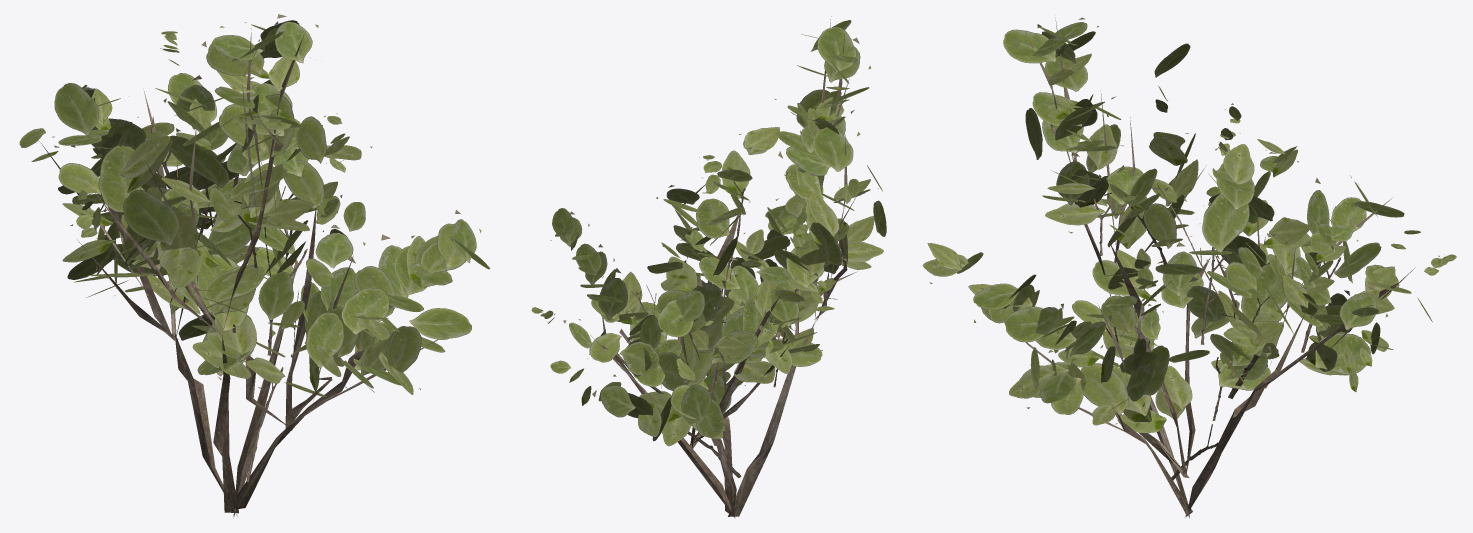
Rendered from bush_green_e.glb.
The picture shows the model from 3 angles, left to right: view 1: azimuth 30°, elevation 25°; view 2: azimuth 150°, elevation 25°; view 3: azimuth 270°, elevation 25°; orthographic projection. The views are drawn at different scales.
Parts seen in each view (by area): view 1: bush_green_e; view 2: bush_green_e; view 3: bush_green_e.
Part boxes in pixels (bbox=[...]): bush_green_e: bbox=[19, 14, 489, 518]; bush_green_e: bbox=[531, 16, 886, 518]; bush_green_e: bbox=[922, 17, 1456, 518].
Bounding box in the file's own units: 0.6806 × 1.01 × 1.03.
Materials: 2 (2 with a texture image).
